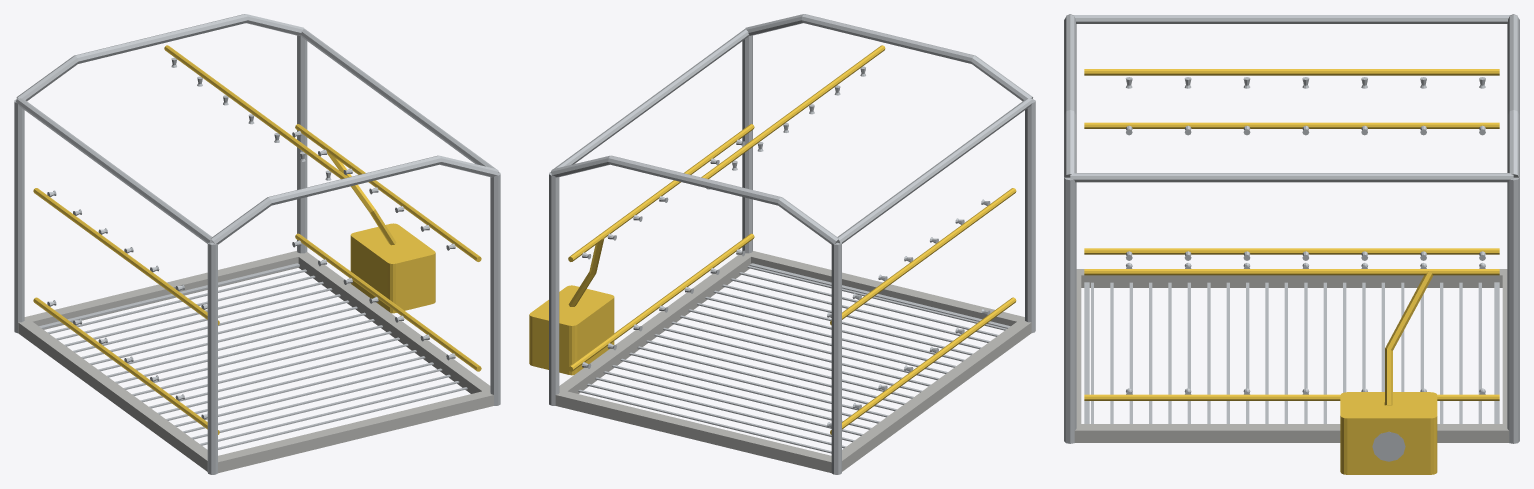
File: ufo-crash-site-and-recovery-facility-wash-down-bay-9de3da64__17352.glb
3 views of the same model, side by side, from view 1: azimuth 30°, elevation 25°; view 2: azimuth 150°, elevation 25°; view 3: azimuth 270°, elevation 25° (orthographic). The views are drawn at different scales.
Visible parts, largest first — view 1: wash-down-bay; view 2: wash-down-bay; view 3: wash-down-bay.
Boxes of the visible parts, x1,y1,x2,y2 form: wash-down-bay: (14, 14, 500, 474); wash-down-bay: (529, 14, 1035, 474); wash-down-bay: (1064, 14, 1519, 474).
Size of the model in its own units: 6.64 by 4.78 by 6.58.
